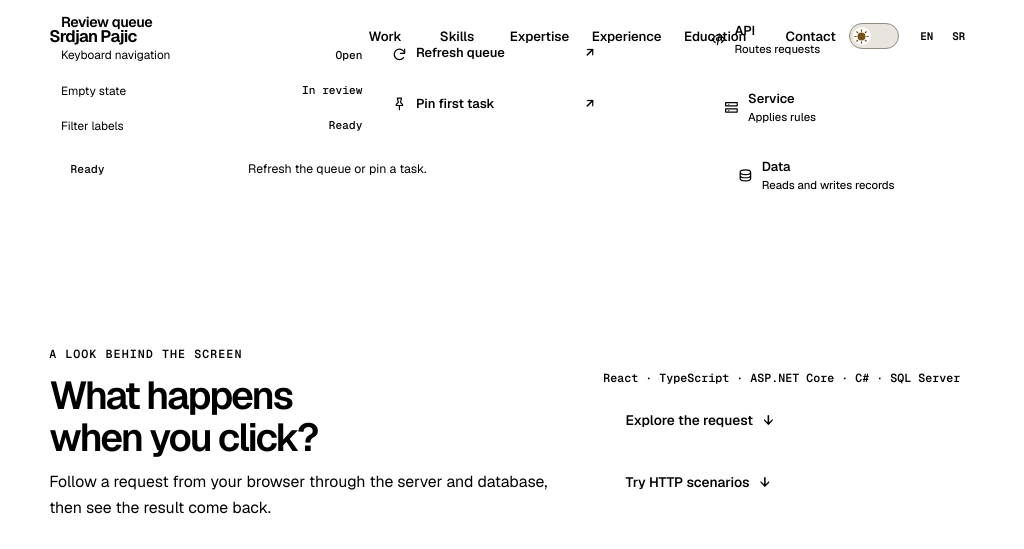
it: relabels an open walkthrough without losing its paused stage
(page scrolled)
Click the button "Explore the request ↓" at (699, 420), box [610, 398, 789, 442]
(page scrolled)
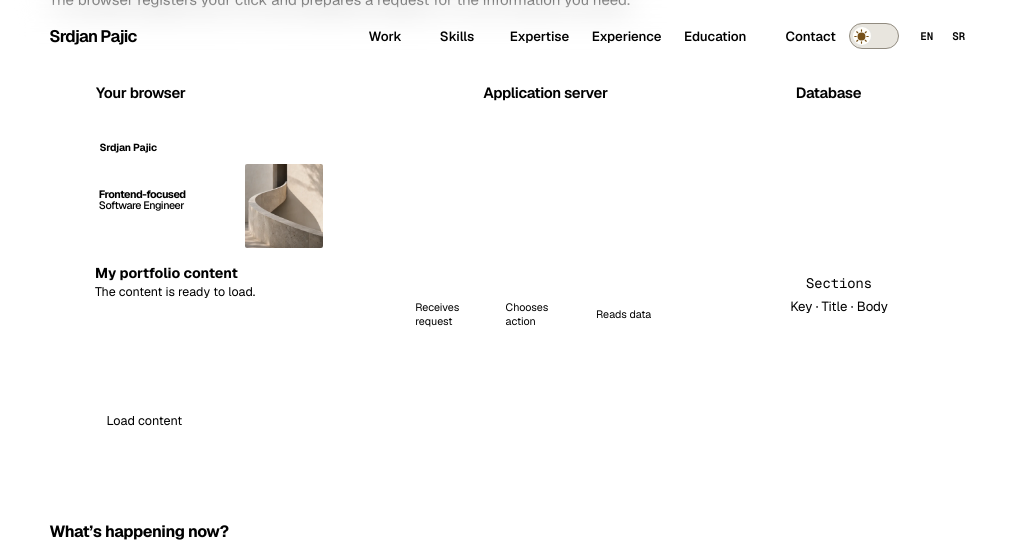
Click the button "Load content" at (149, 420), box [95, 398, 202, 442]
(page scrolled)
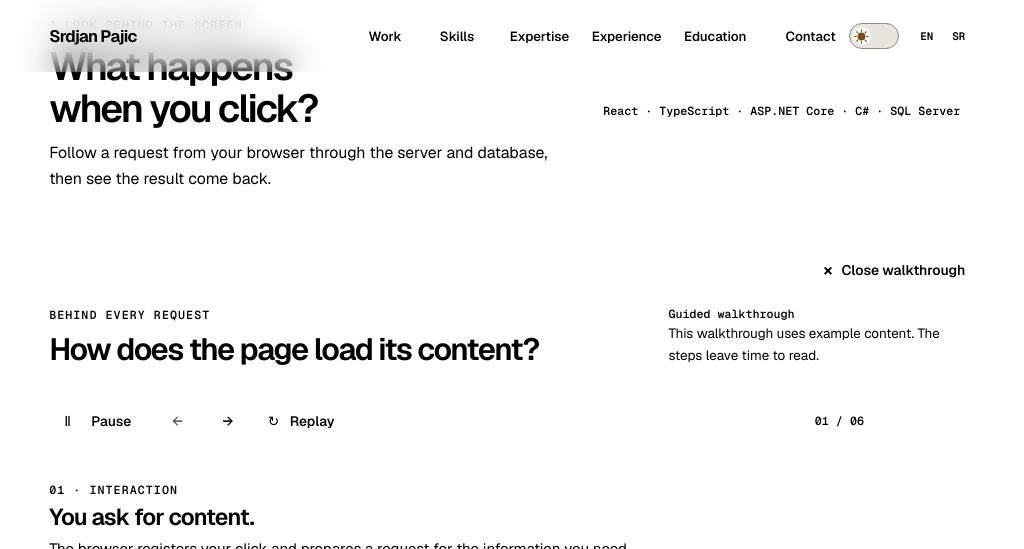
Click the button named "Next step" at (228, 421), box [206, 399, 250, 443]
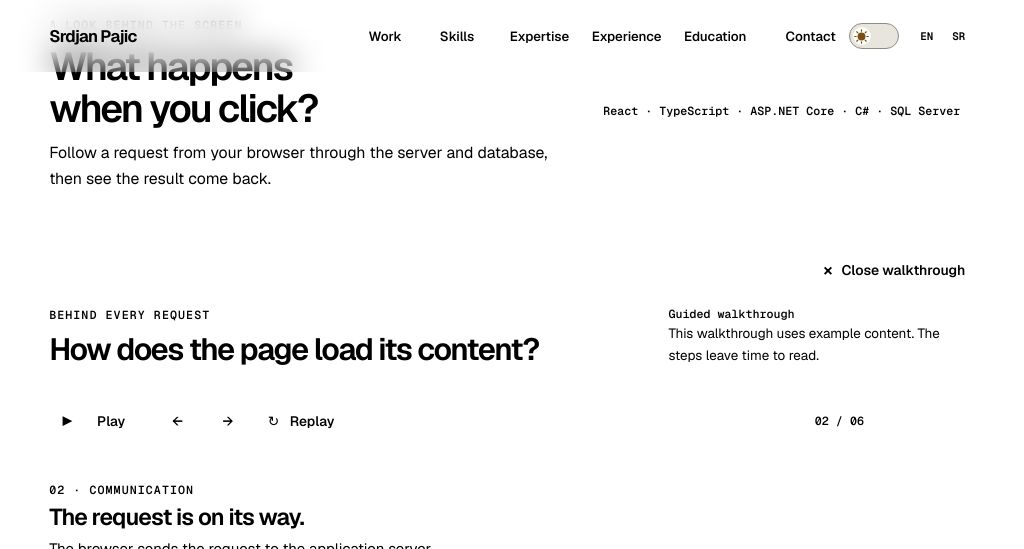
Now the text "02 / 06" is shown, box [815, 413, 864, 428]
Click the switch named "EN / SR, Serbian language" at (943, 36), box [911, 14, 975, 58]
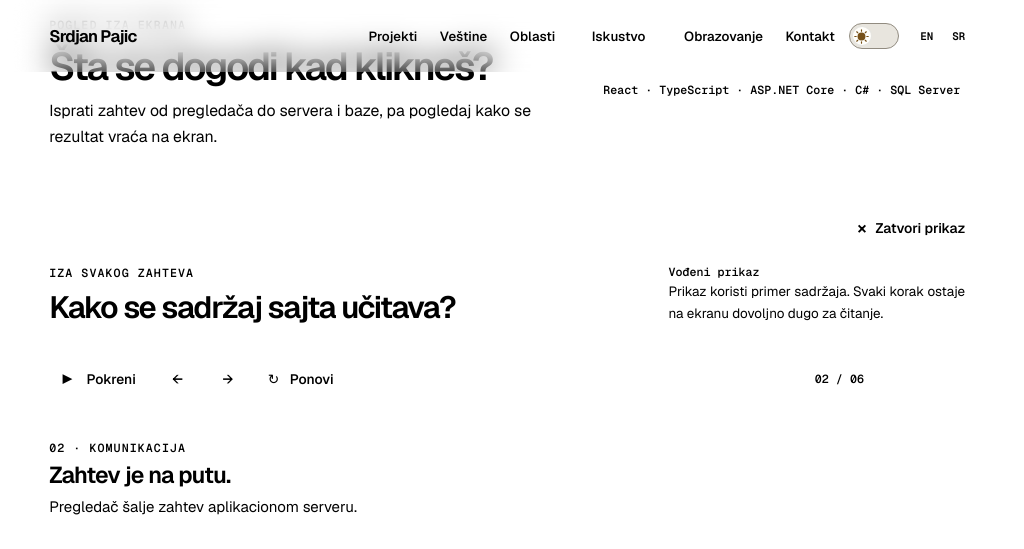
Now the text "02 / 06" is shown, box [815, 371, 864, 386]
Now the button "▶ Pokreni" is enabled, box [49, 357, 149, 401]
Now the heading "Zahtev je na putu." is shown, box [49, 460, 230, 490]
Click the button named "Sledeći korak" at (228, 379), box [206, 357, 250, 401]
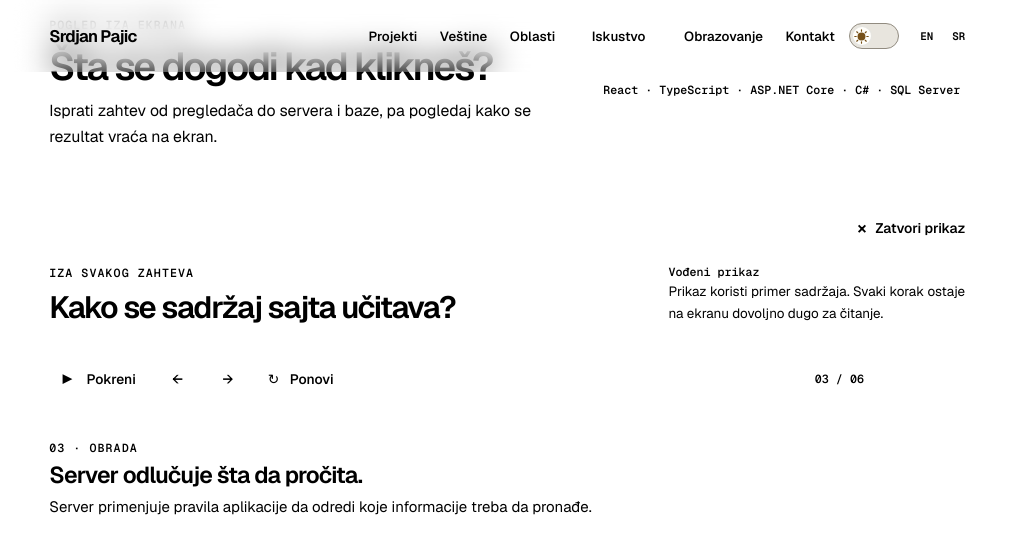
Now the text "03 / 06" is shown, box [815, 371, 864, 386]
